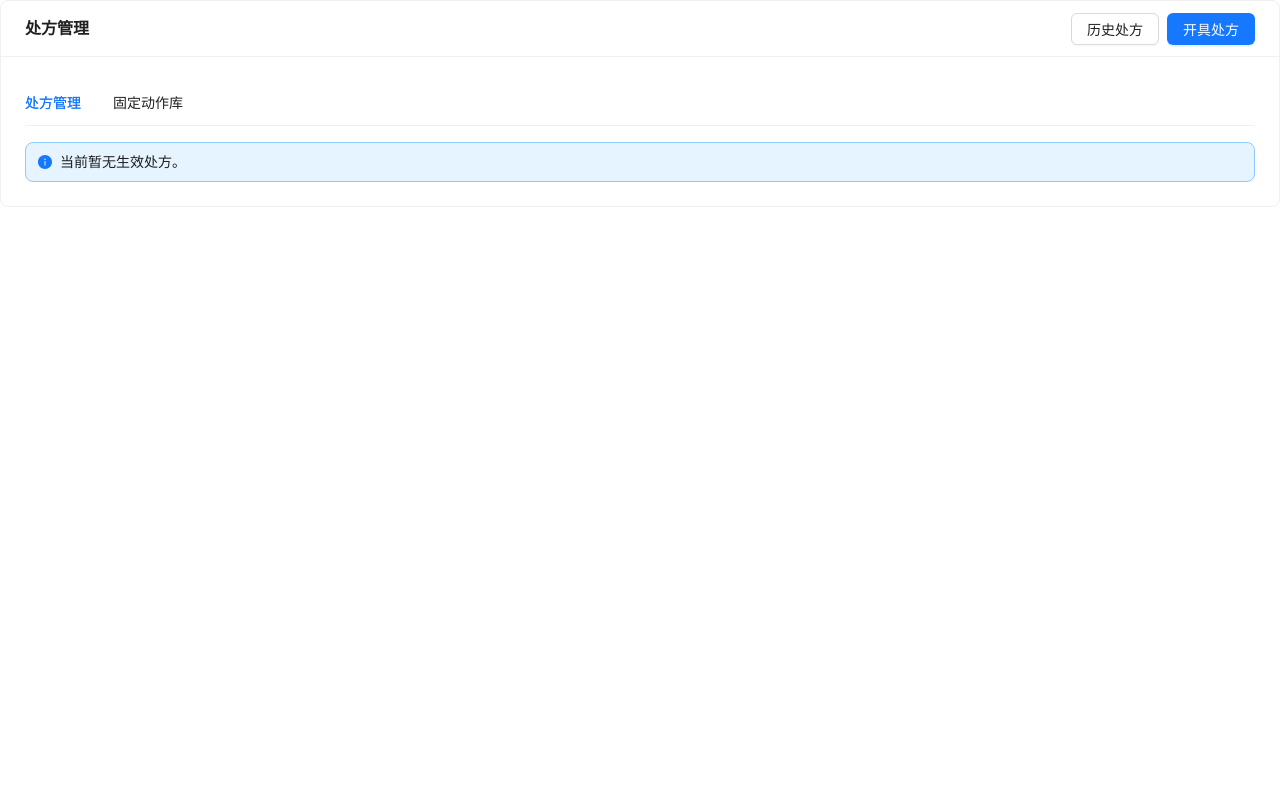
it: PrescriptionPanel › treats empty current prescription response as no active prescription
Check: the text "当前暂无生效处方。" is shown, box [60, 153, 186, 170]
Click the button "开具处方" at (1211, 28), box [1167, 12, 1255, 44]
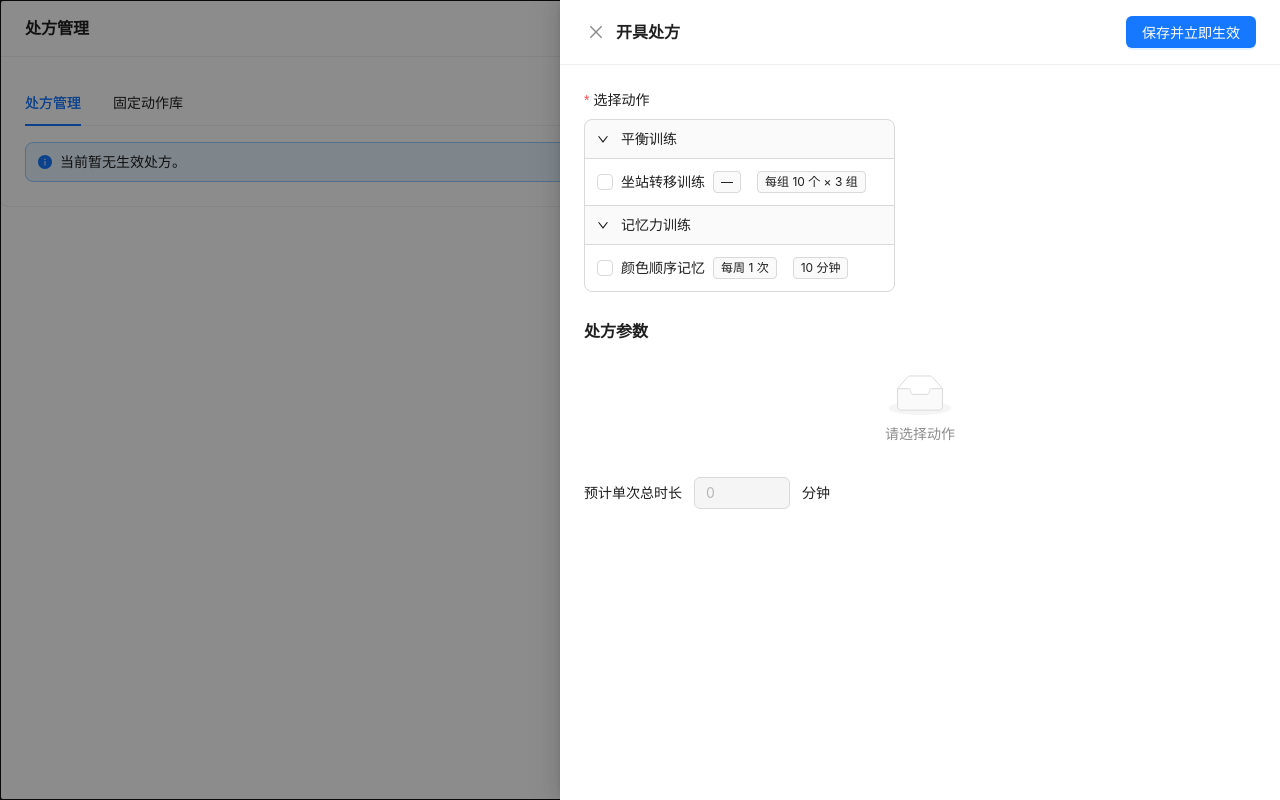
Check: the text "平衡训练" is shown, box [621, 130, 677, 147]
Check: the checkbox labelled "坐站转移训练" is shown, box [597, 171, 882, 193]
